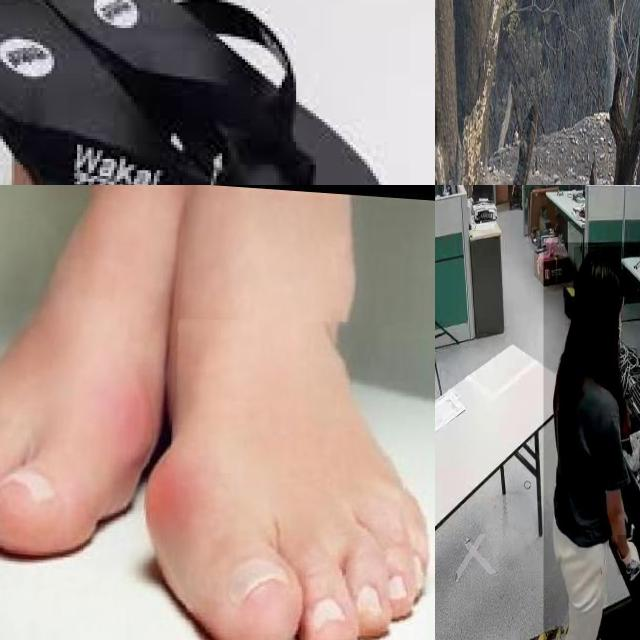Barefoots: (143, 219, 430, 640), (0, 199, 184, 557)
Sandals: (0, 0, 431, 185)
hand_glove: (617, 535, 640, 576)
head_nohelmet: (574, 247, 626, 297)
person: (543, 242, 640, 640)
